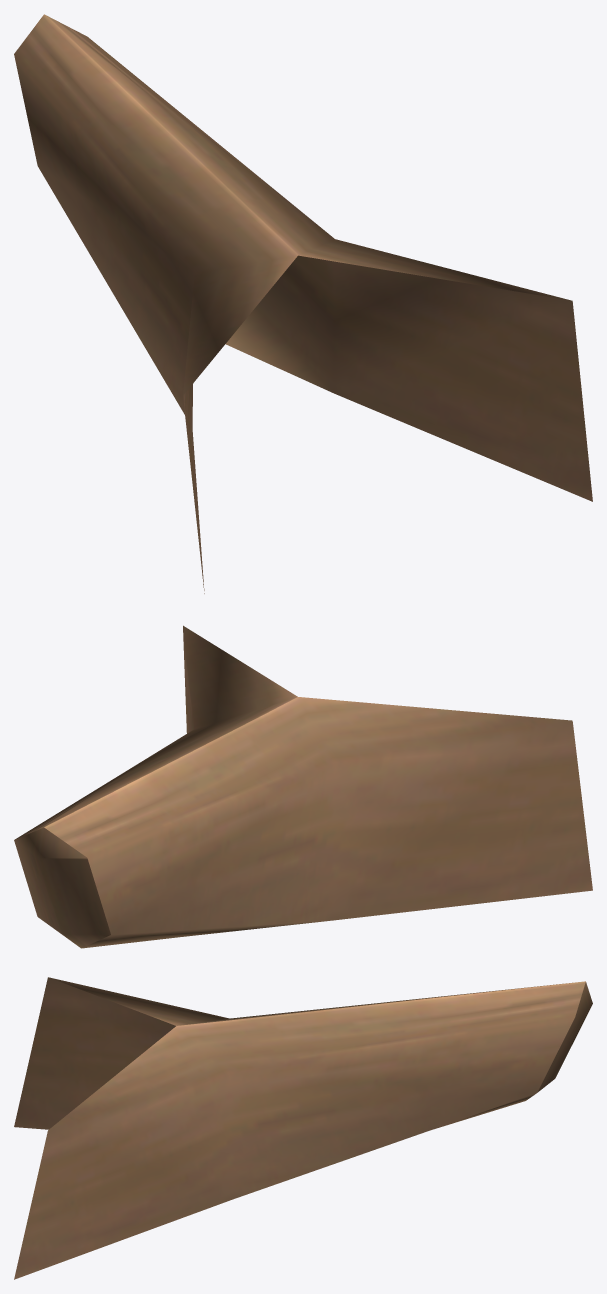
The model's file is A_HA_GEN_Ship_Bowsprit_02.fbx.
3 views of the same model, one above another, from view 1: azimuth 30°, elevation 25°; view 2: azimuth 150°, elevation 25°; view 3: azimuth 270°, elevation 25° (orthographic). The views are drawn at different scales.
Visible parts, largest first — view 1: A_HA_Gen_Ship_Bowsprit_02; view 2: A_HA_Gen_Ship_Bowsprit_02; view 3: A_HA_Gen_Ship_Bowsprit_02.
Part boxes in pixels (x1=…): A_HA_Gen_Ship_Bowsprit_02: x1=14, y1=14, x2=592, y2=593; A_HA_Gen_Ship_Bowsprit_02: x1=14, y1=625, x2=592, y2=948; A_HA_Gen_Ship_Bowsprit_02: x1=14, y1=977, x2=592, y2=1279.
Size of the model in its own units: 439 by 297 by 701.
Materials: 1 (1 with a texture image).
